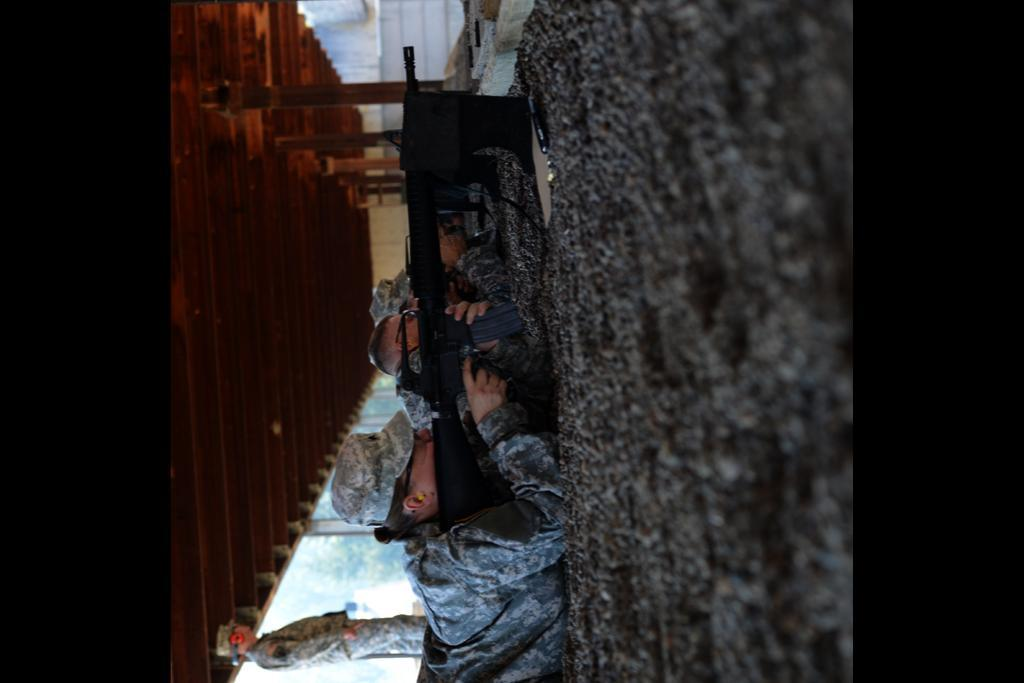gun: (396, 45, 526, 528)
